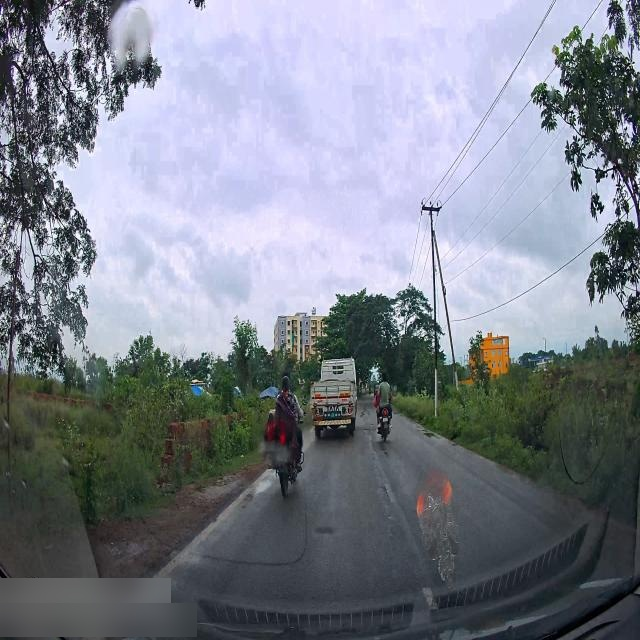pothole: (377, 474, 396, 507), (255, 476, 272, 496)
